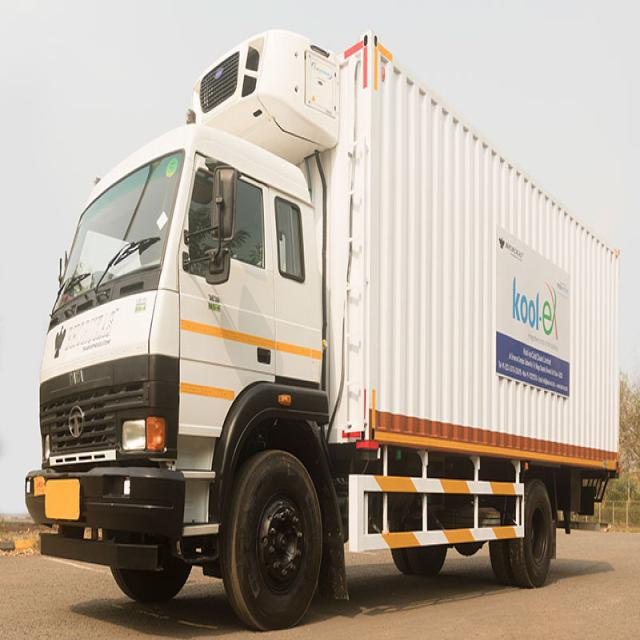Trucks: (26, 32, 618, 628)
